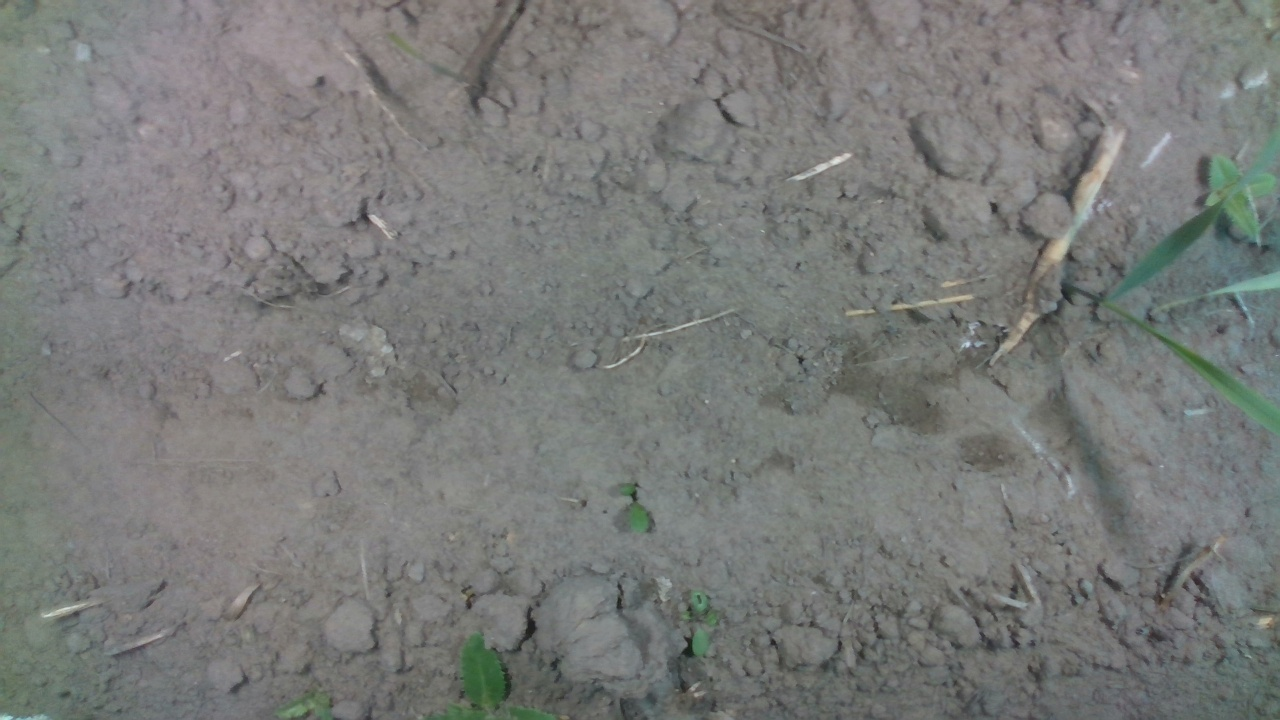weed: (616, 480, 653, 537)
